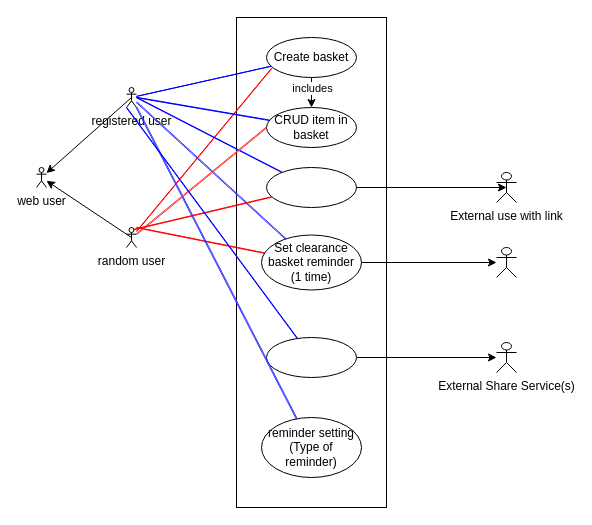
Some shapes in this 592 by 525 pixel diagram are drawn without their labels. The shapes that lost their labels are listed below. From the top down, each one's box as (x1, y1, x2, y2) in pixels, then its label:
(266, 166, 356, 208): Share basket
(496, 246, 516, 278): Reminder Service(s)
(266, 336, 356, 378): Share reminder
